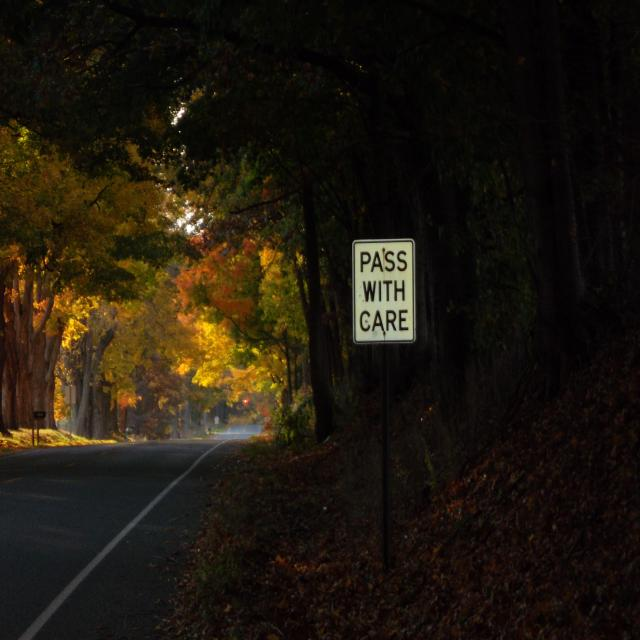regulatory: (352, 239, 418, 342)
